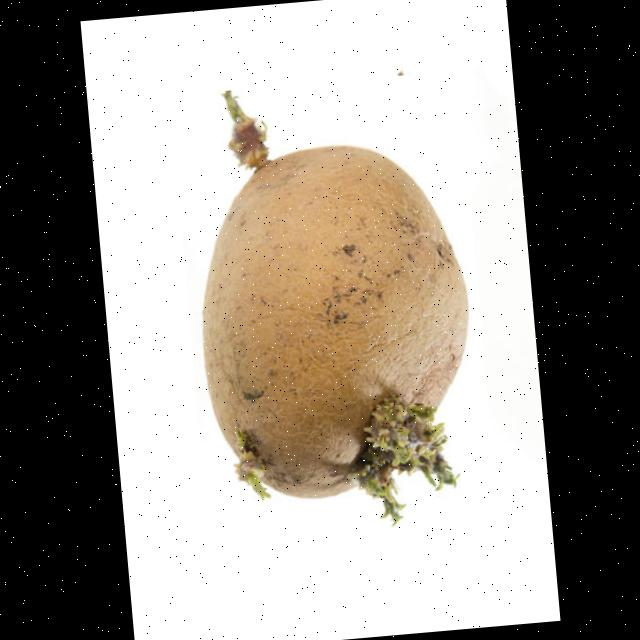Sprouted potato: (170, 69, 500, 560)
